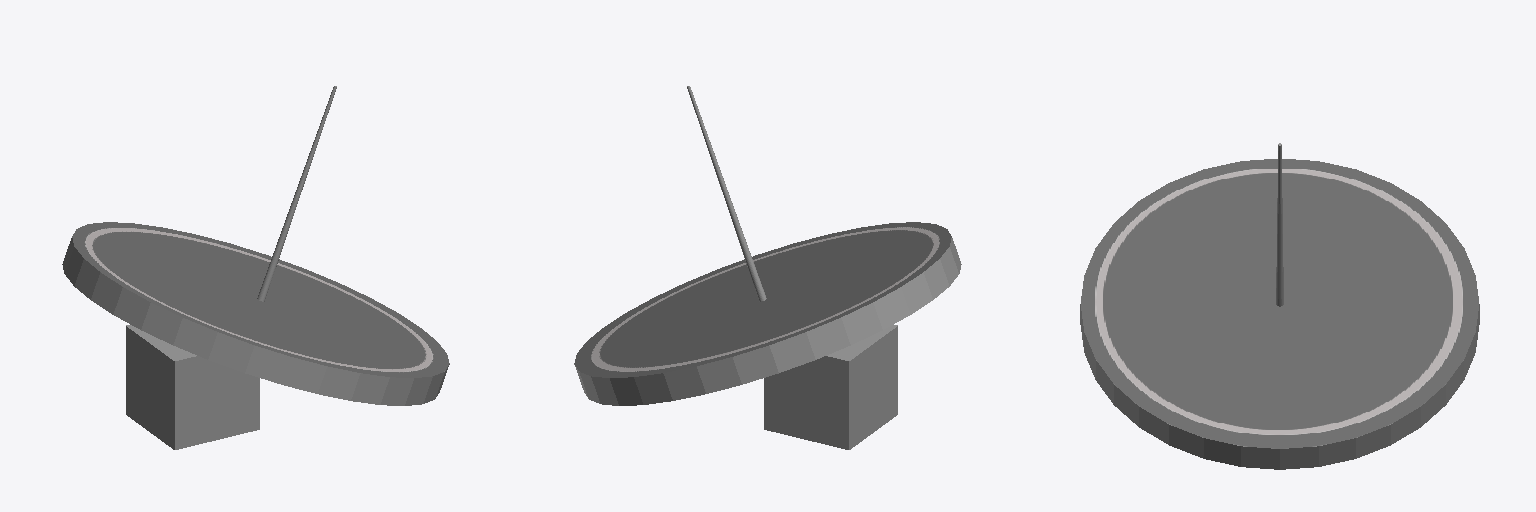
3 renders of one model, left to right at view 1: azimuth 30°, elevation 25°; view 2: azimuth 150°, elevation 25°; view 3: azimuth 270°, elevation 25°, orthographic.
Parts seen in each view (by area): view 1: Cube.001; view 2: Cube.001; view 3: Cube.001.
Boxes of the visible parts, x1=… form: Cube.001: x1=62, y1=86, x2=449, y2=449; Cube.001: x1=574, y1=86, x2=961, y2=449; Cube.001: x1=1080, y1=143, x2=1479, y2=469.
Bounding box in the file's own units: 5.96 × 5.19 × 6.23.
Materials: 2 (1 with a texture image).